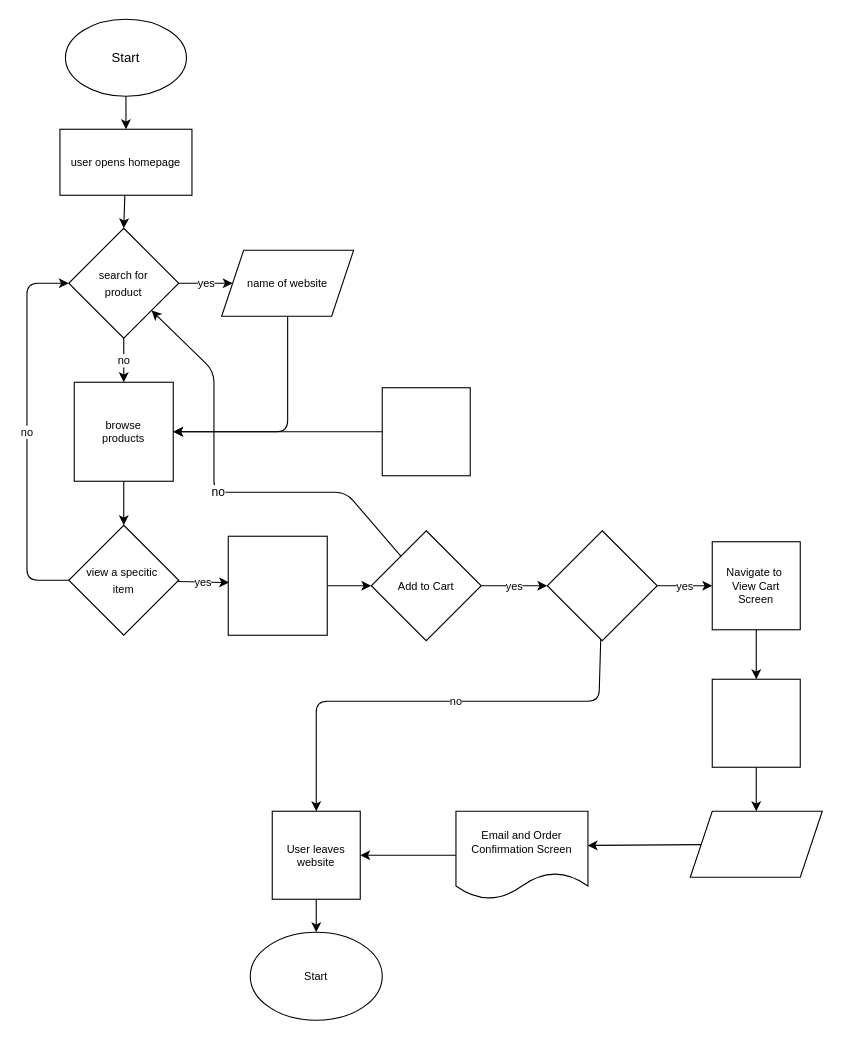
The diagram is 842 pixels wide and 1040 high, and some of its shapes have lost their labels. Here are the shapes that lost their labels. From the top down, the centre of each, then its label:
pixel 425 431: user leaves webpage
pixel 277 585: product's webpage opens
pixel 601 585: Confirm Checkout
pixel 755 722: View Payment Screen
pixel 755 843: User gives payment information
